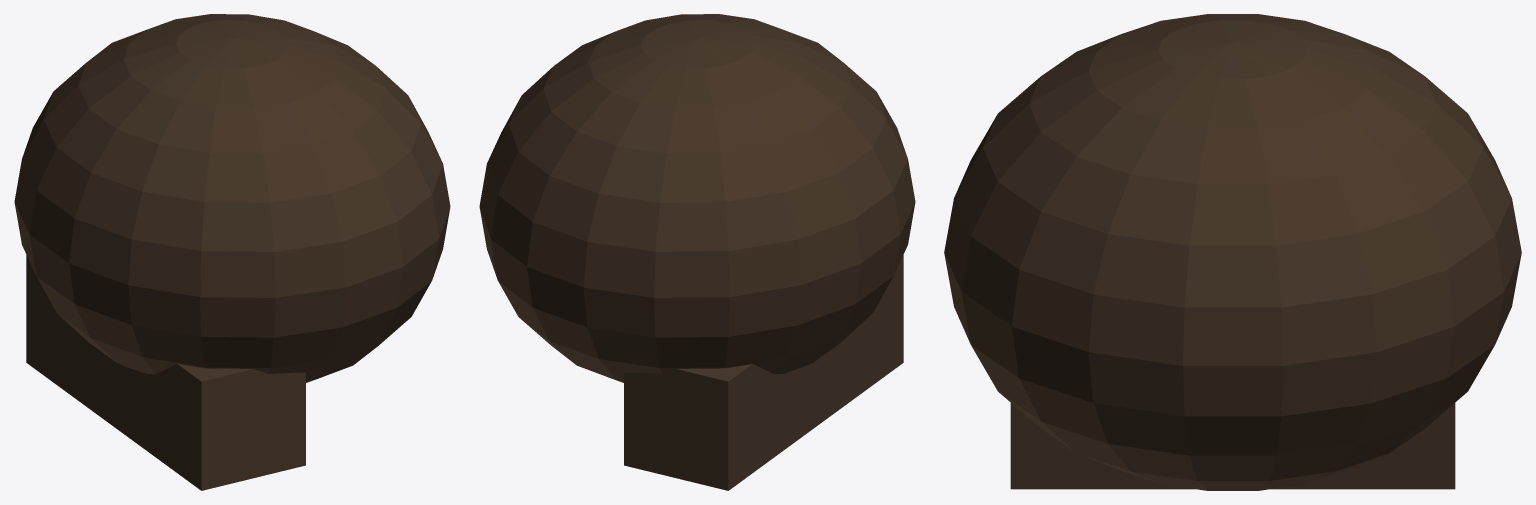
Rendered from SM_Hair_Short.fbx.
The picture shows the model from 3 angles, left to right: view 1: azimuth 30°, elevation 25°; view 2: azimuth 150°, elevation 25°; view 3: azimuth 270°, elevation 25°; orthographic projection. The views are drawn at different scales.
Visible parts, largest first — view 1: SM_Hair_Short; view 2: SM_Hair_Short; view 3: SM_Hair_Short.
Part boxes in pixels (bbox=[...]): SM_Hair_Short: bbox=[14, 14, 450, 490]; SM_Hair_Short: bbox=[479, 14, 915, 490]; SM_Hair_Short: bbox=[944, 14, 1521, 490].
Size of the model in its own units: 19.3 by 20.78 by 18.08.
